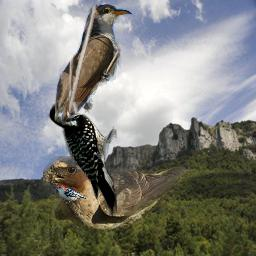Cuckoo: (55, 4, 151, 125)
Swallow: (43, 156, 190, 235)
Woodpecker: (48, 92, 117, 220), (52, 185, 86, 204)
